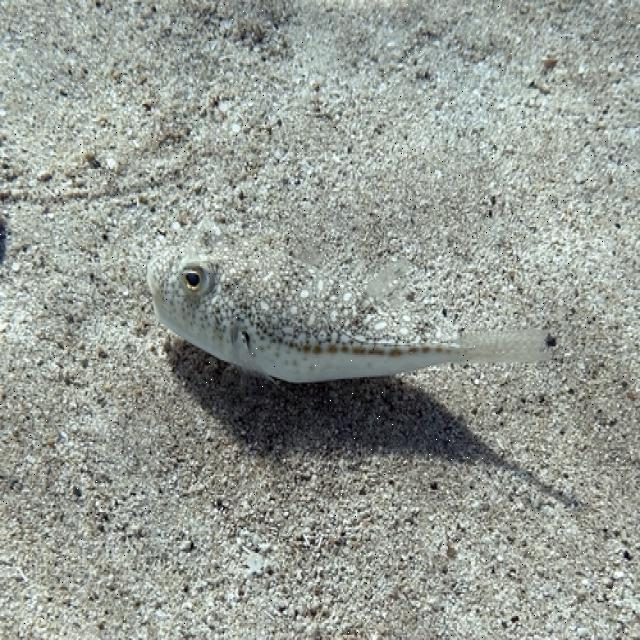Balik: (148, 241, 547, 382)
